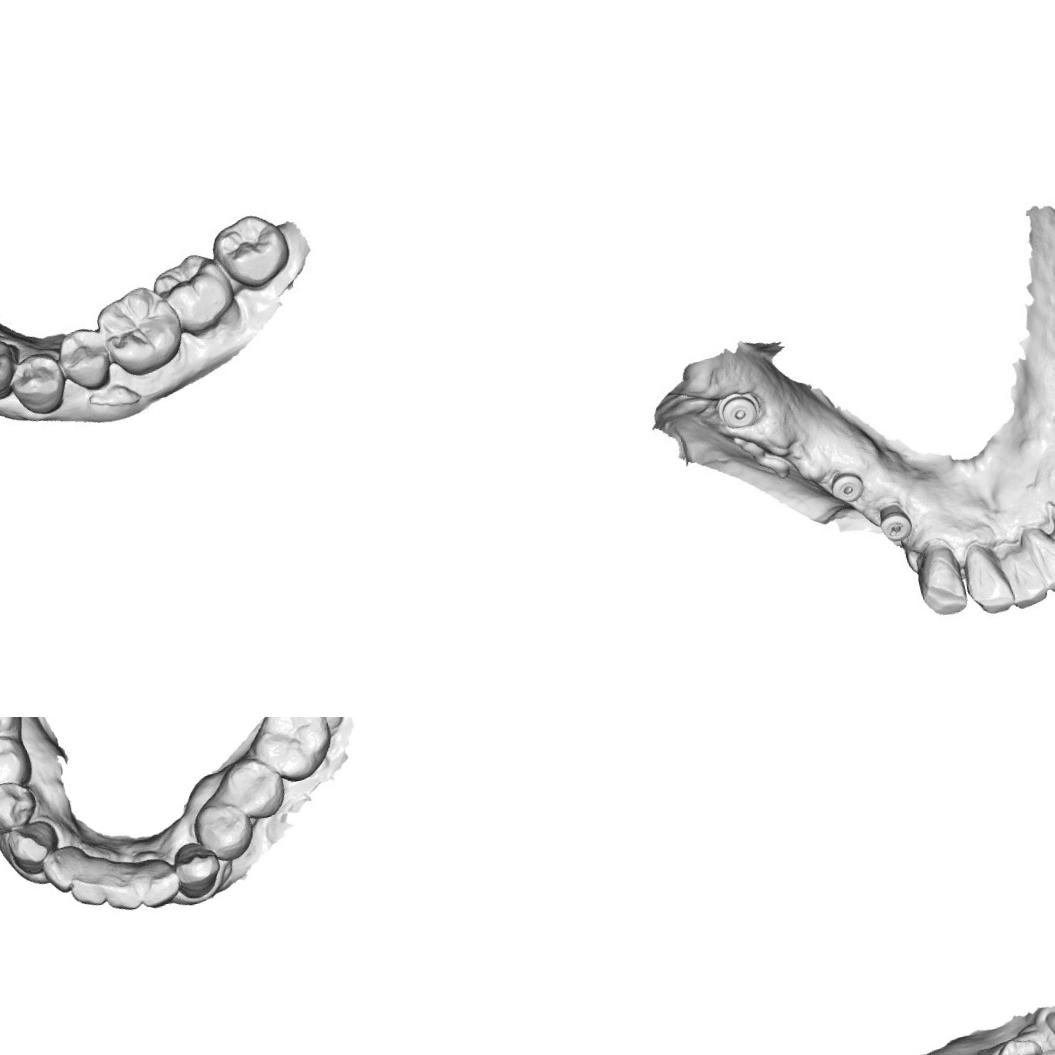canine: (910, 541, 973, 623), (0, 816, 62, 881), (168, 834, 225, 902), (0, 331, 23, 406)
implant: (714, 386, 764, 435), (826, 468, 870, 508)
implant_minus: (874, 501, 916, 546)
incisor: (960, 542, 1017, 618), (1000, 541, 1054, 611), (128, 850, 184, 914), (60, 852, 112, 913), (96, 855, 145, 917), (36, 842, 92, 896), (1020, 515, 1055, 599), (1040, 999, 1055, 1054)
molar: (144, 244, 243, 345), (91, 280, 190, 380), (201, 207, 297, 298), (243, 717, 340, 790), (216, 749, 292, 827), (0, 730, 32, 794)
premolar: (189, 794, 259, 866), (7, 342, 72, 418), (51, 325, 114, 396), (0, 775, 43, 838), (993, 1028, 1055, 1055)
